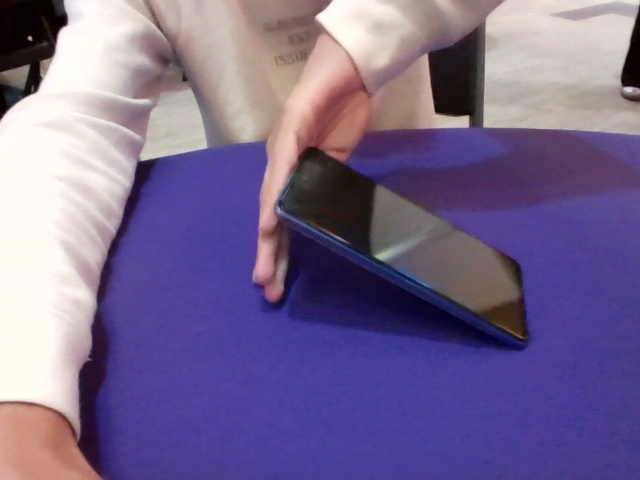celular: (271, 147, 527, 352)
